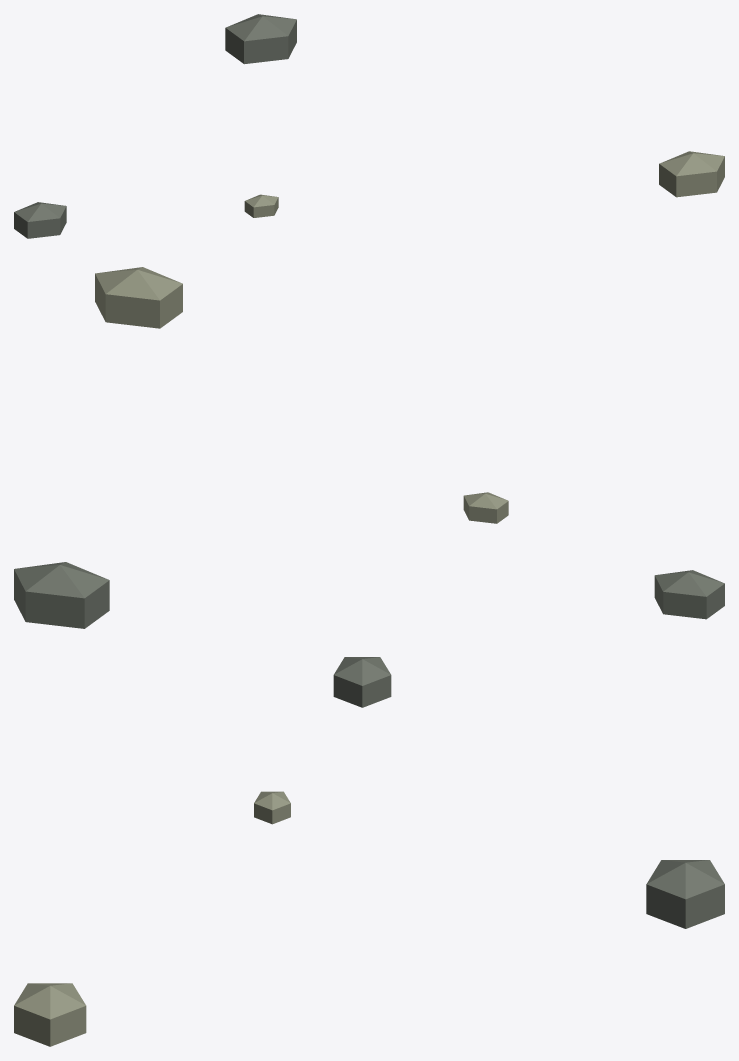
Rendered from pebble_scatter_lod1.obj.
The picture shows the model from 3 angles, top to bottom: view 1: azimuth 30°, elevation 25°; view 2: azimuth 150°, elevation 25°; view 3: azimuth 270°, elevation 25°; orthographic projection. The views are drawn at different scales.
Visible parts, largest first — view 1: pebble_scatter_lod1; view 2: pebble_scatter_lod1; view 3: pebble_scatter_lod1.
Part boxes in pixels (<box>): pebble_scatter_lod1: <box>14,14,724,238</box>; pebble_scatter_lod1: <box>14,267,724,628</box>; pebble_scatter_lod1: <box>14,657,724,1046</box>.
Size of the model in its own units: 1.81 by 0.1354 by 1.47.
1 material, 1 textured.
